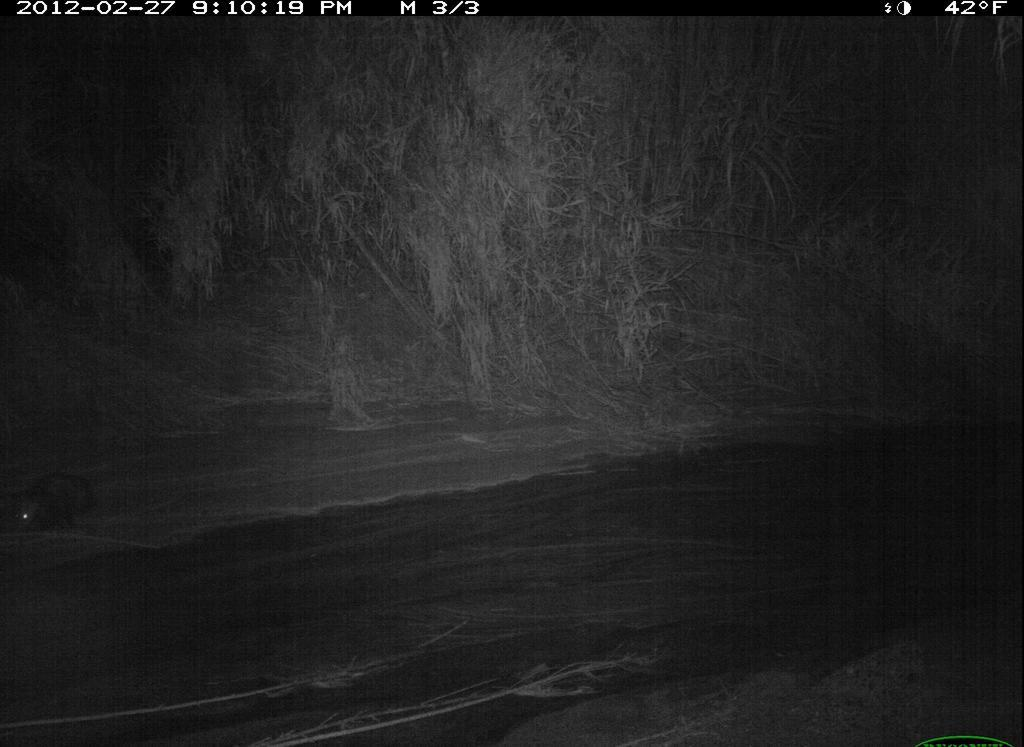opossum: (7, 466, 105, 542)
